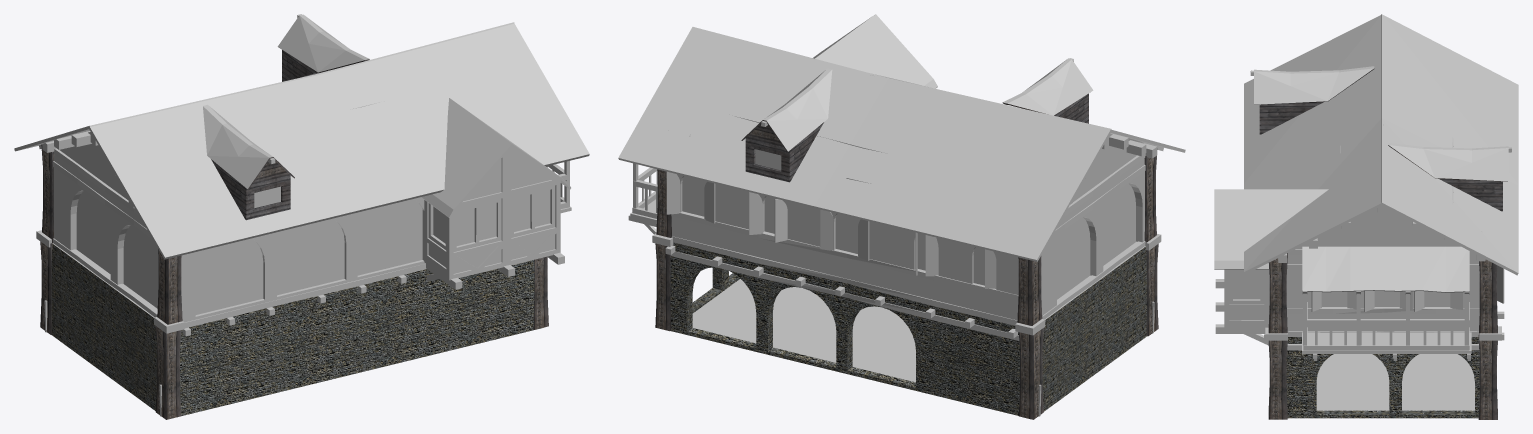
The model's file is tavern3.dae.
The picture shows the model from 3 angles, left to right: view 1: azimuth 30°, elevation 25°; view 2: azimuth 150°, elevation 25°; view 3: azimuth 270°, elevation 25°; orthographic projection. The views are drawn at different scales.
Parts seen in each view (by area): view 1: house; view 2: house; view 3: house.
Boxes of the visible parts, x1,y1,x2,y2 form: house: (14, 14, 589, 419); house: (618, 14, 1185, 419); house: (1214, 14, 1518, 419).
Size of the model in its own units: 26.7 by 14.65 by 17.58.
